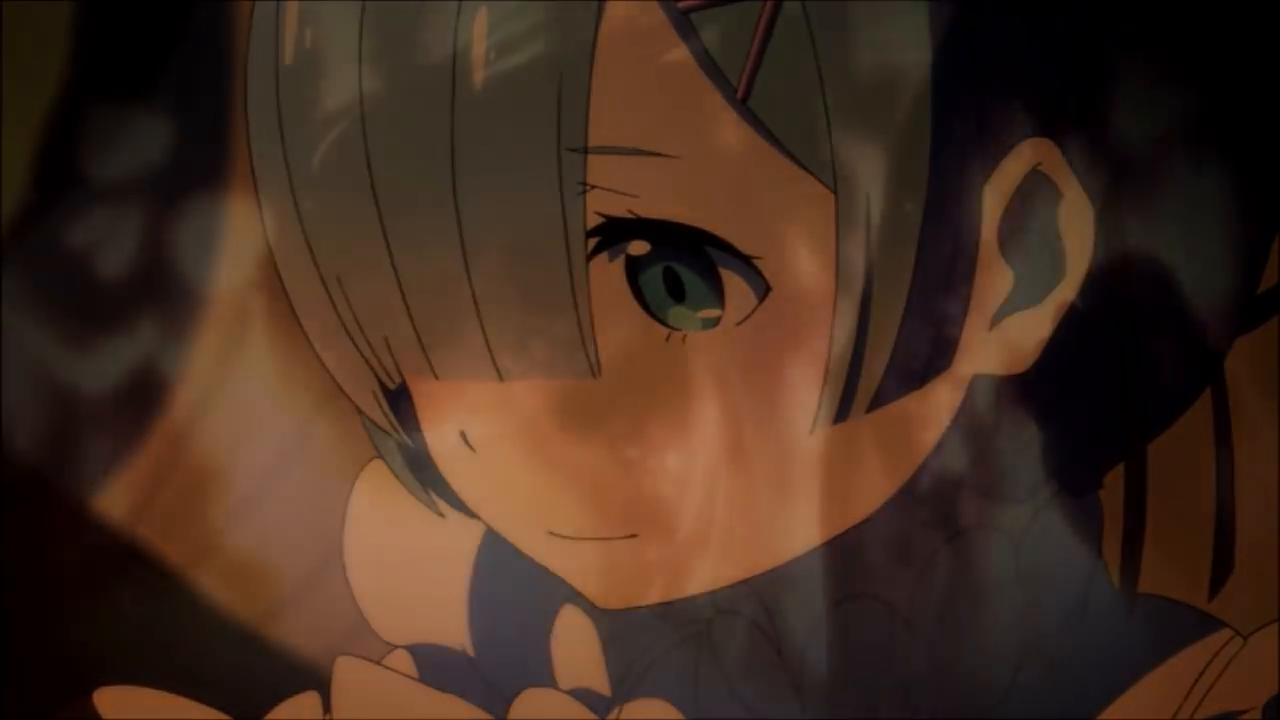REM: (246, 1, 1267, 614)
